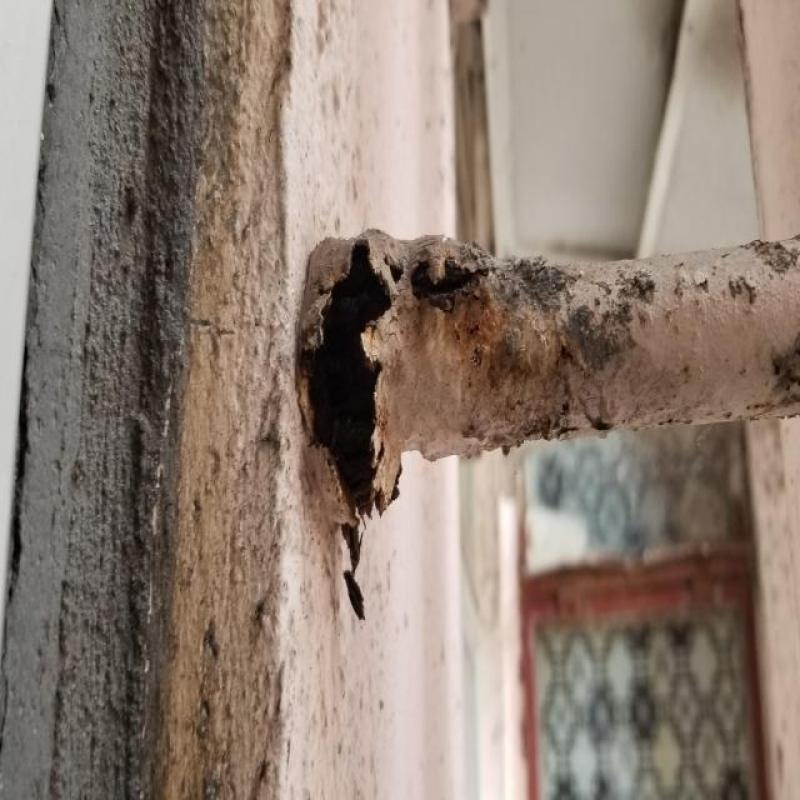Fracture: (283, 188, 425, 512)
